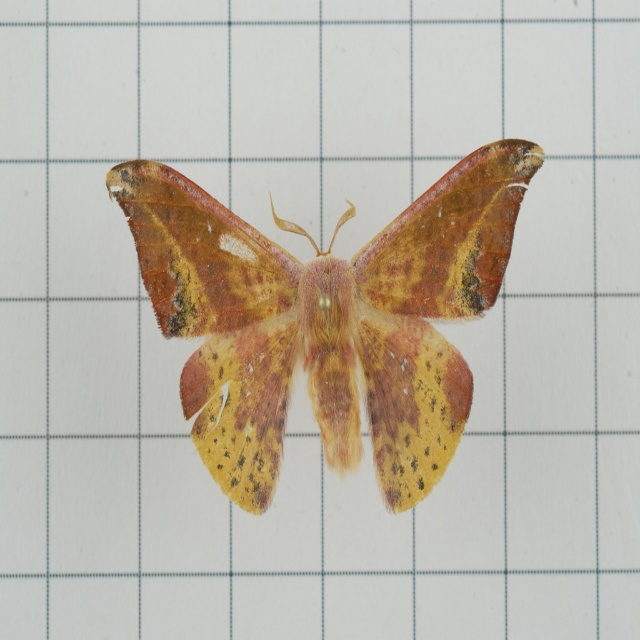Butterfly: (123, 140, 534, 540)
